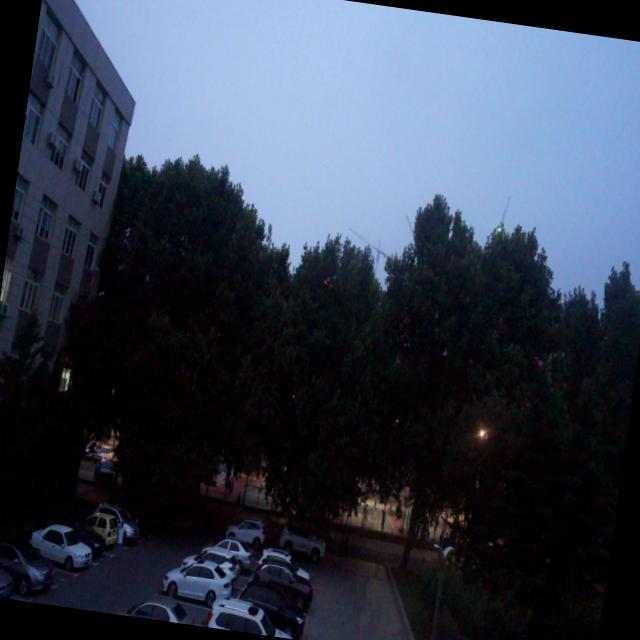drone: (318, 262, 342, 299)
